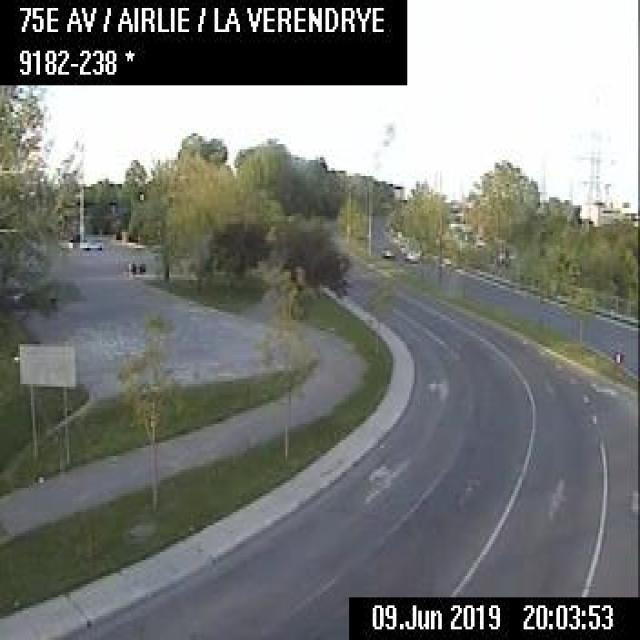vehicle: (78, 234, 102, 250), (404, 243, 422, 261), (380, 240, 398, 256)
